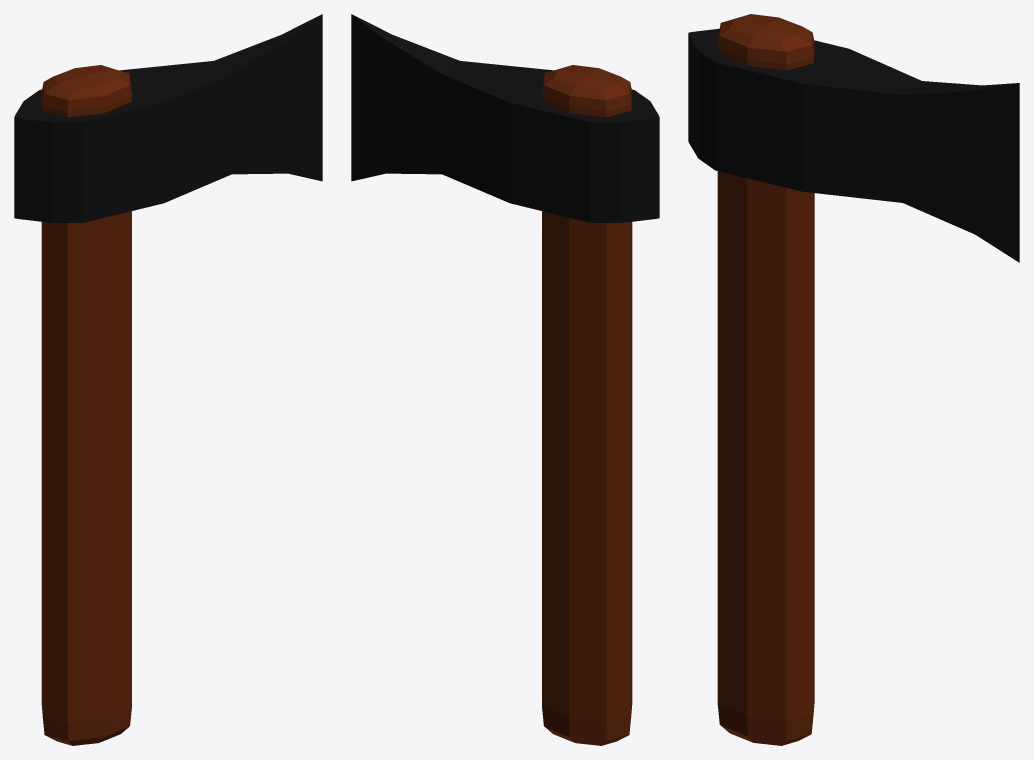
The model's file is axe-by-rexdev-333-qMzg2Q5DwL.glb.
3 views of the same model, side by side, from view 1: azimuth 30°, elevation 25°; view 2: azimuth 150°, elevation 25°; view 3: azimuth 330°, elevation 25° (orthographic). The views are drawn at different scales.
Visible parts, largest first — view 1: Cube.001; view 2: Cube.001; view 3: Cube.001.
Boxes of the visible parts, x1,y1,x2,y2 form: Cube.001: [14, 14, 322, 745]; Cube.001: [351, 14, 659, 745]; Cube.001: [688, 14, 1019, 745].
Size of the model in its own units: 6.4 by 13.21 by 1.59.
